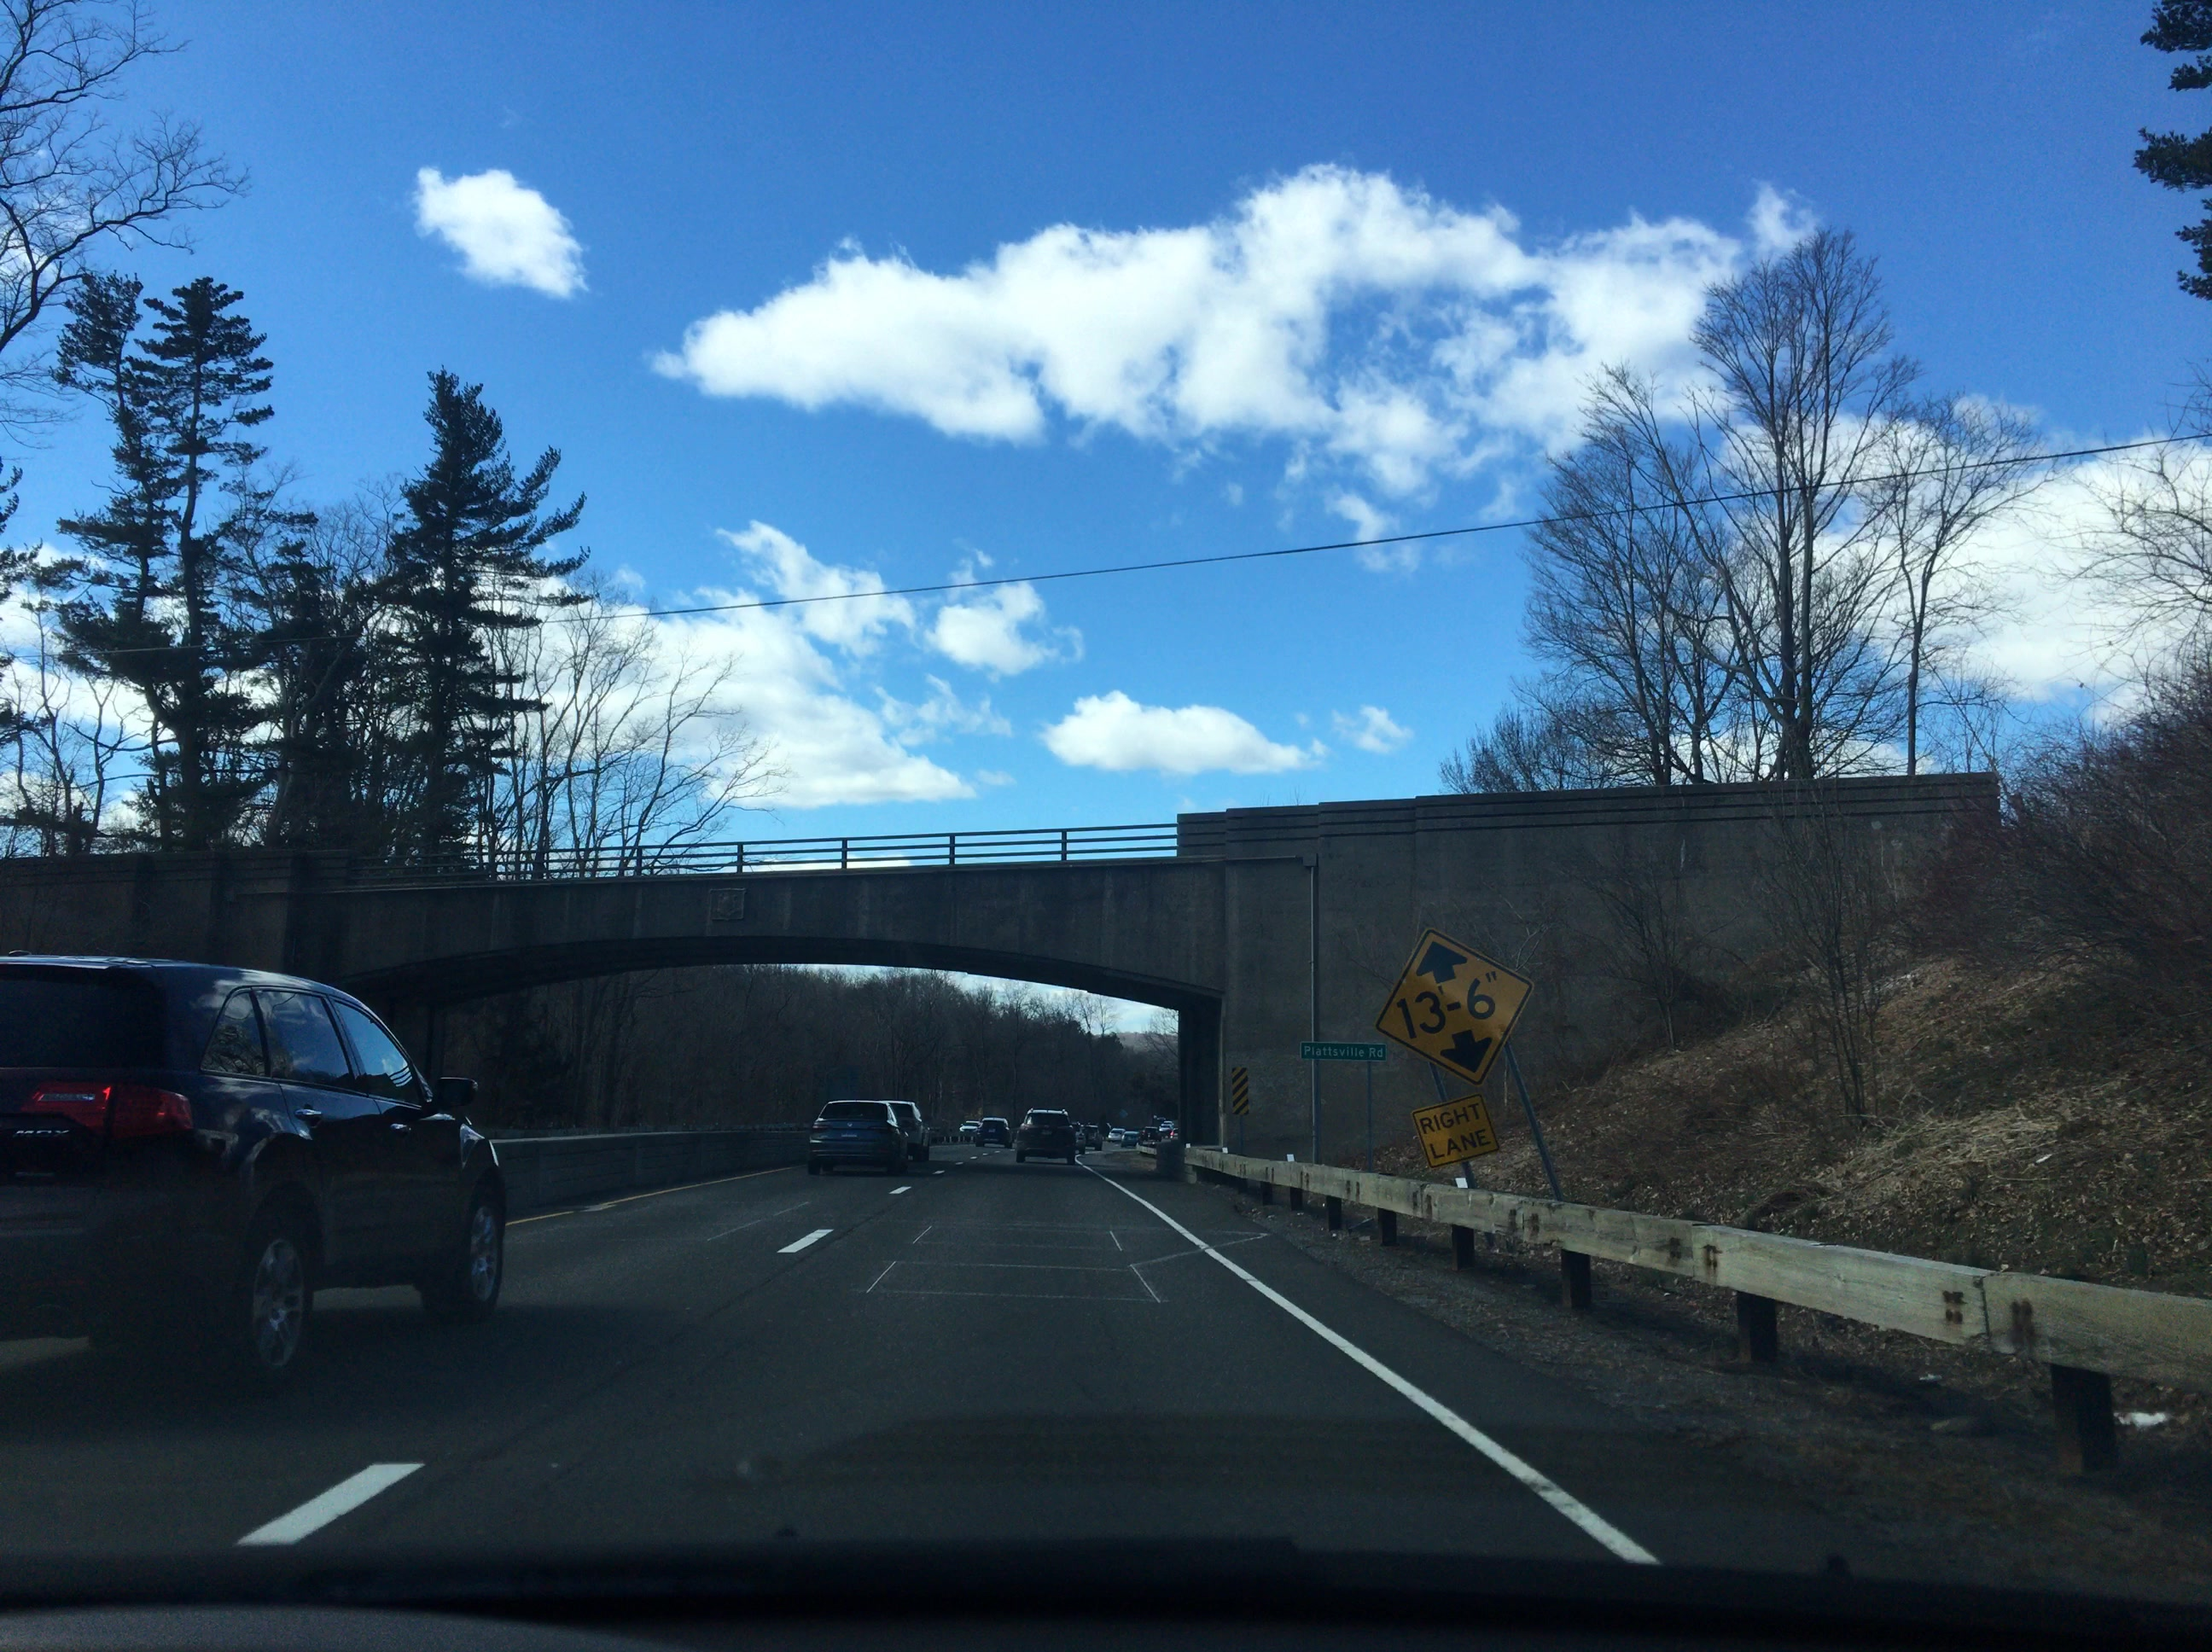low-clearance-sign: (1374, 927, 1535, 1088)
